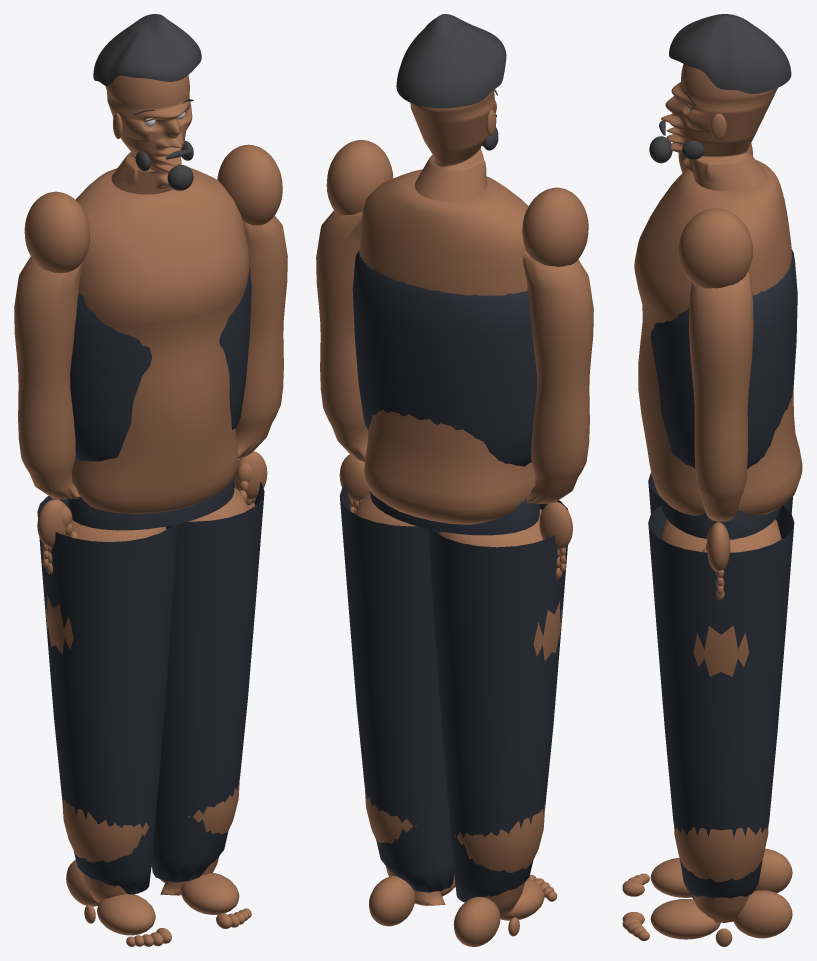
File: male_mature.obj
The picture shows the model from 3 angles, left to right: view 1: azimuth 30°, elevation 25°; view 2: azimuth 150°, elevation 25°; view 3: azimuth 270°, elevation 25°; orthographic projection.
Visible parts, largest first — view 1: Body_male_mature, Garment_Pants, Garment_Shirt, Hair_side_part, Facial_Hair; view 2: Body_male_mature, Garment_Pants, Garment_Shirt, Hair_side_part; view 3: Body_male_mature, Garment_Pants, Garment_Shirt, Hair_side_part, Facial_Hair.
Part boxes in pixels (left/top/right/bottom): Body_male_mature: left=14, top=75, right=287, bottom=946; Garment_Pants: left=37, top=477, right=264, bottom=894; Garment_Shirt: left=70, top=258, right=251, bottom=461; Hair_side_part: left=93, top=14, right=201, bottom=86; Facial_Hair: left=135, top=140, right=193, bottom=190; Body_male_mature: left=316, top=90, right=593, bottom=946; Garment_Pants: left=339, top=484, right=568, bottom=902; Garment_Shirt: left=352, top=250, right=536, bottom=466; Hair_side_part: left=396, top=14, right=506, bottom=108; Body_male_mature: left=622, top=64, right=802, bottom=946; Garment_Pants: left=648, top=473, right=794, bottom=900; Garment_Shirt: left=650, top=249, right=797, bottom=468; Hair_side_part: left=669, top=14, right=791, bottom=93; Facial_Hair: left=649, top=120, right=704, bottom=163.
Size of the model in its own units: 0.5707 by 1.83 by 0.3291.
